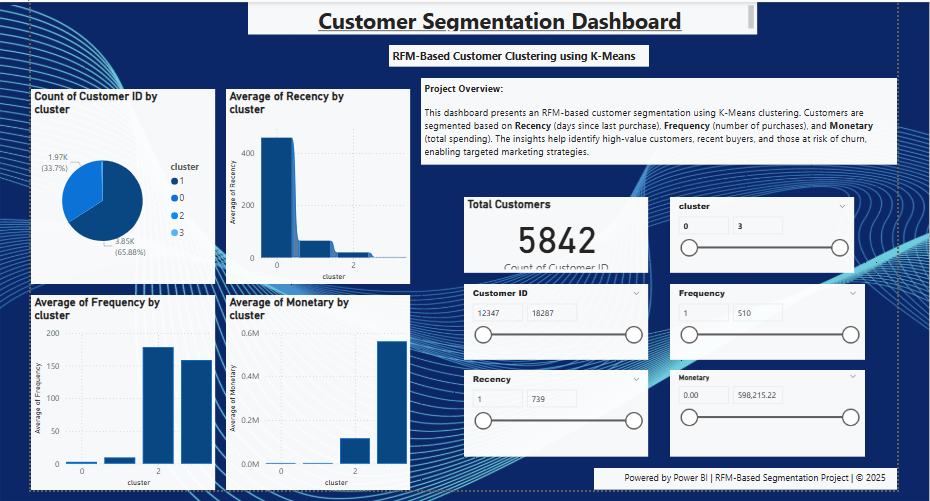

What the dashboard file says about the page in this screenshot:
{"tool":"powerbi","page":{"name":"Page 1","canvas":[1280,720],"ordinal":0},"visuals":[{"type":"pieChart","fields":{"Y":["CountNonNull(rfm_clusters.Customer ID)"],"Category":["rfm_clusters.cluster"]},"box":[0,128,272,288],"z":0},{"type":"columnChart","fields":{"Category":["rfm_clusters.cluster"],"Y":["Avg(rfm_clusters.Recency)"]},"box":[288,128,272,288],"z":1000},{"type":"clusteredColumnChart","fields":{"Category":["rfm_clusters.cluster"],"Y":["Avg(rfm_clusters.Frequency)"]},"box":[0,432,272,288],"z":2000},{"type":"clusteredColumnChart","fields":{"Category":["rfm_clusters.cluster"],"Y":["Avg(rfm_clusters.Monetary)"]},"box":[288,432,272,288],"z":3000},{"type":"slicer","fields":{"Values":["rfm_clusters.cluster"]},"box":[944,288,272,112],"z":4000},{"type":"slicer","fields":{"Values":["rfm_clusters.Customer ID"]},"box":[640,416,272,112],"z":5000},{"type":"slicer","fields":{"Values":["rfm_clusters.Recency"]},"box":[640,544,272,128],"z":6000},{"type":"slicer","fields":{"Values":["rfm_clusters.Frequency"]},"box":[944,416,288,112],"z":7000},{"type":"slicer","fields":{"Values":["rfm_clusters.Monetary"]},"box":[944,544,288,128],"z":8000},{"type":"card","title":"Total Customers","fields":{"Values":["CountNonNull(rfm_clusters.Customer ID)"]},"box":[640,288,272,112],"z":9000},{"type":"textbox","box":[320,0,752,48],"z":10000},{"type":"textbox","box":[528,64,384,32],"z":11000},{"type":"textbox","box":[832,688,448,32],"z":11002},{"type":"textbox","box":[576,112,704,128],"z":11003}]}

Visuals, with their boxes in screenshot pixels (x1, y1, x2, y2):
pieChart - CountNonNull(rfm_clusters.Customer ID) x rfm_clusters.cluster: 24,83,211,281
columnChart - rfm_clusters.cluster x Avg(rfm_clusters.Recency): 222,83,409,281
clusteredColumnChart - rfm_clusters.cluster x Avg(rfm_clusters.Frequency): 24,292,211,490
clusteredColumnChart - rfm_clusters.cluster x Avg(rfm_clusters.Monetary): 222,292,409,490
slicer - rfm_clusters.cluster: 672,193,859,270
slicer - rfm_clusters.Customer ID: 464,281,650,358
slicer - rfm_clusters.Recency: 464,369,650,457
slicer - rfm_clusters.Frequency: 672,281,870,358
slicer - rfm_clusters.Monetary: 672,369,870,457
"Total Customers" card: 464,193,650,270
textbox: 244,0,760,28
textbox: 387,39,650,61
textbox: 596,468,903,490
textbox: 420,72,903,160
